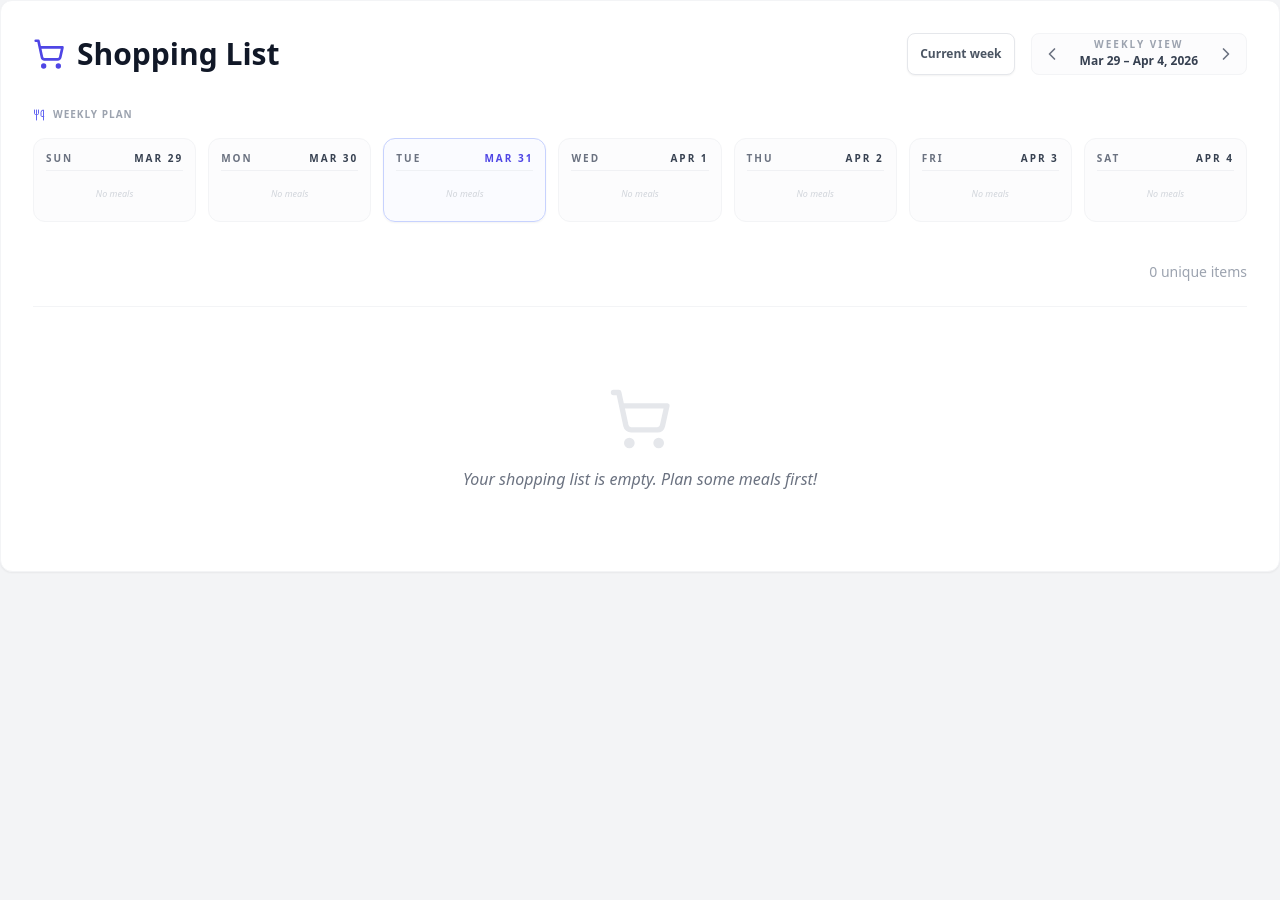
ShoppingList › toggles the date picker
Click the text "Weekly View": x=1139, y=44 [1094,39,1184,49]
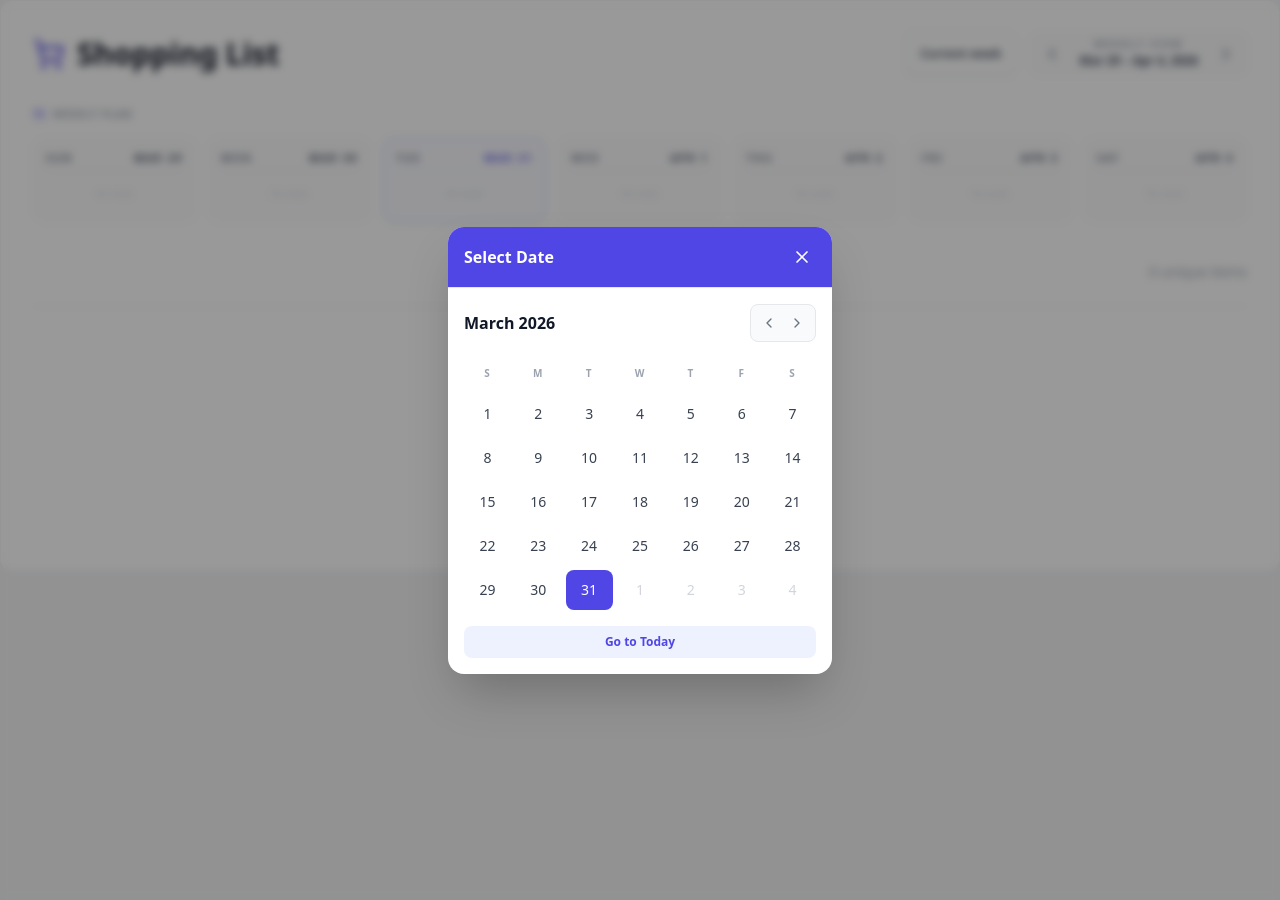
Check: the heading "Select Date" is shown, box [464,244,554,268]
Click the button named "Close": x=802, y=256 [788,242,816,270]
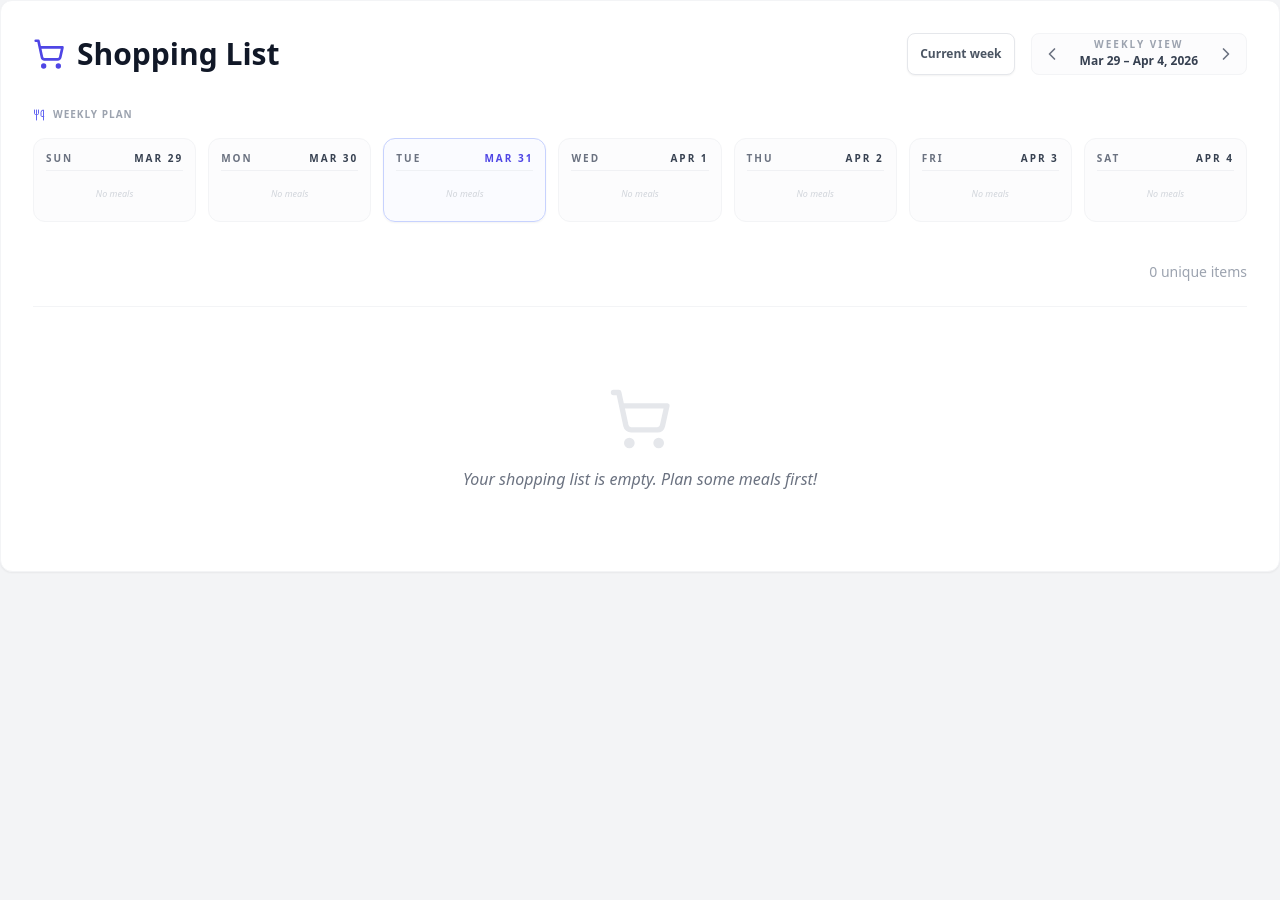
Check: the heading "Select Date" is gone
